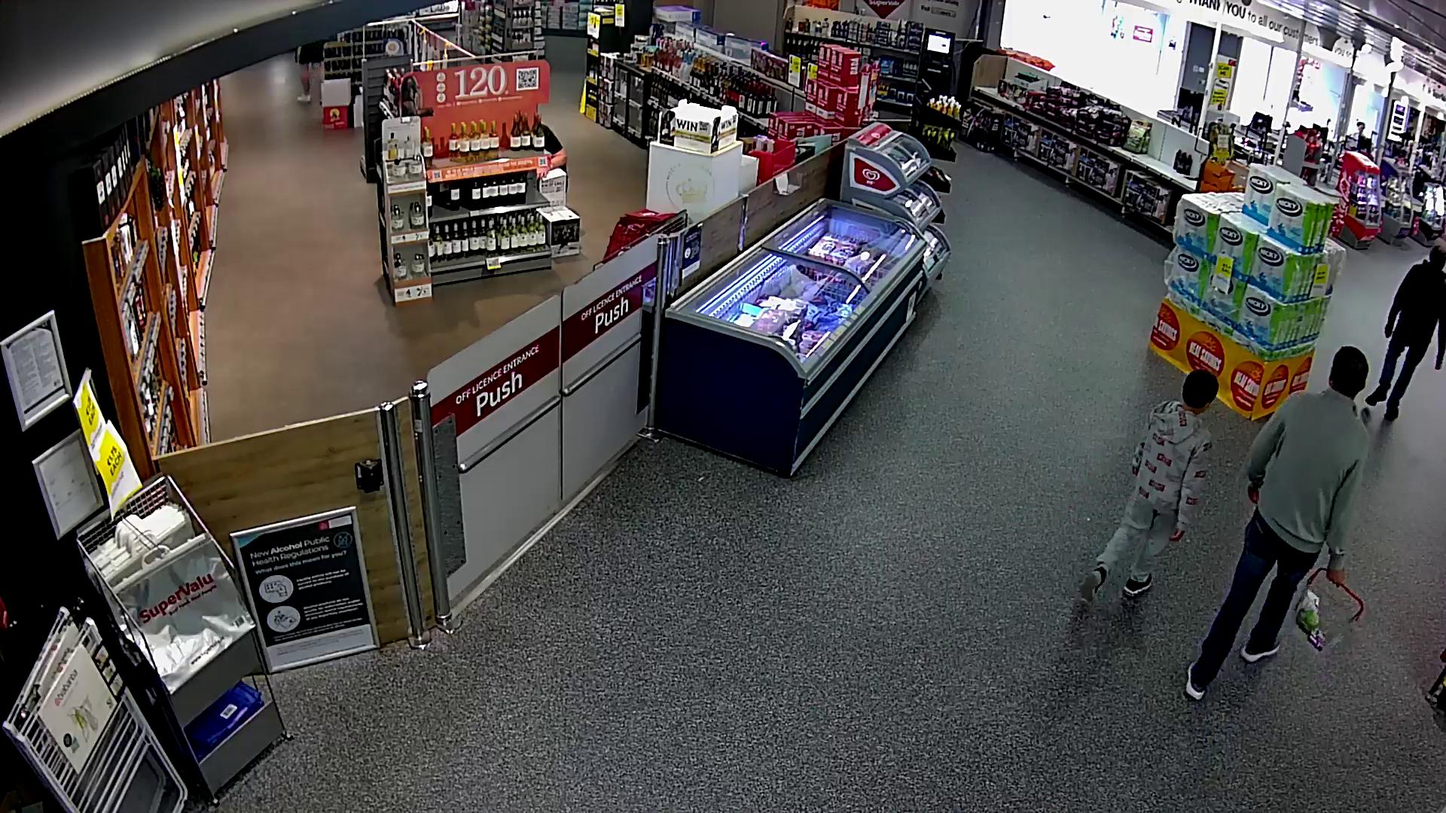filled-basket: (1291, 568, 1363, 657)
person: (1185, 344, 1369, 699)
person-with-filled-basket-trolly: (1185, 342, 1367, 703)
